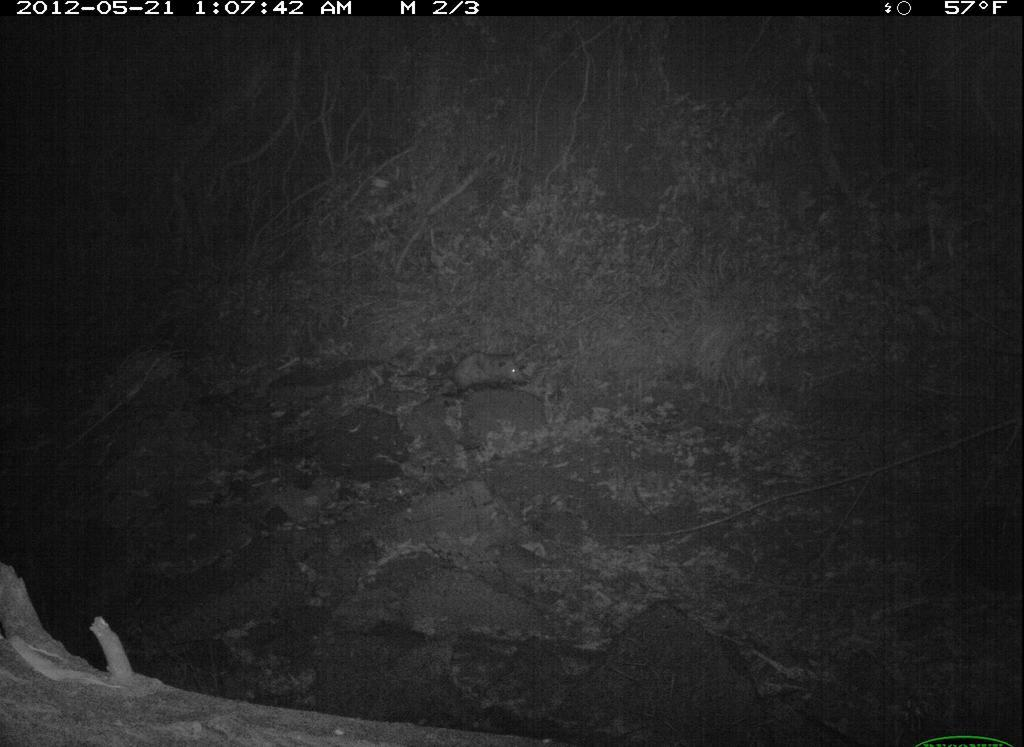opossum: (395, 332, 550, 413)
